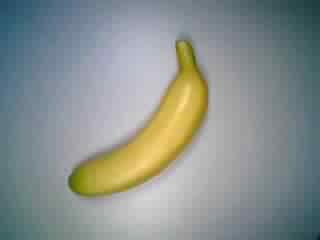banana: (65, 34, 219, 204)
